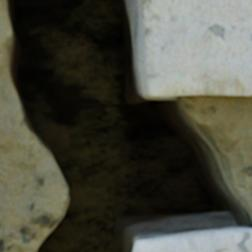brick: (139, 0, 251, 96), (133, 227, 251, 251)
crack: (0, 0, 251, 251)
